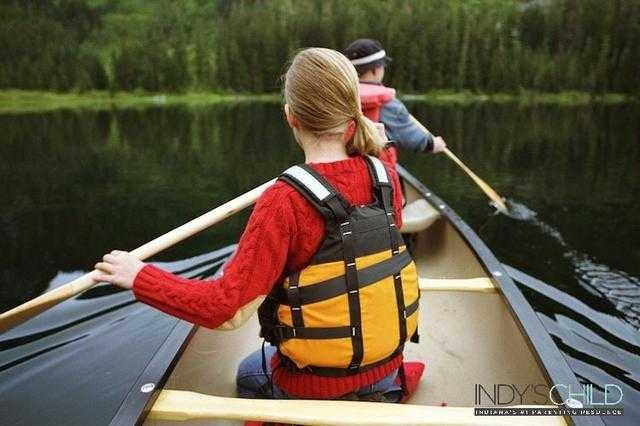kayak: (4, 163, 628, 416)
